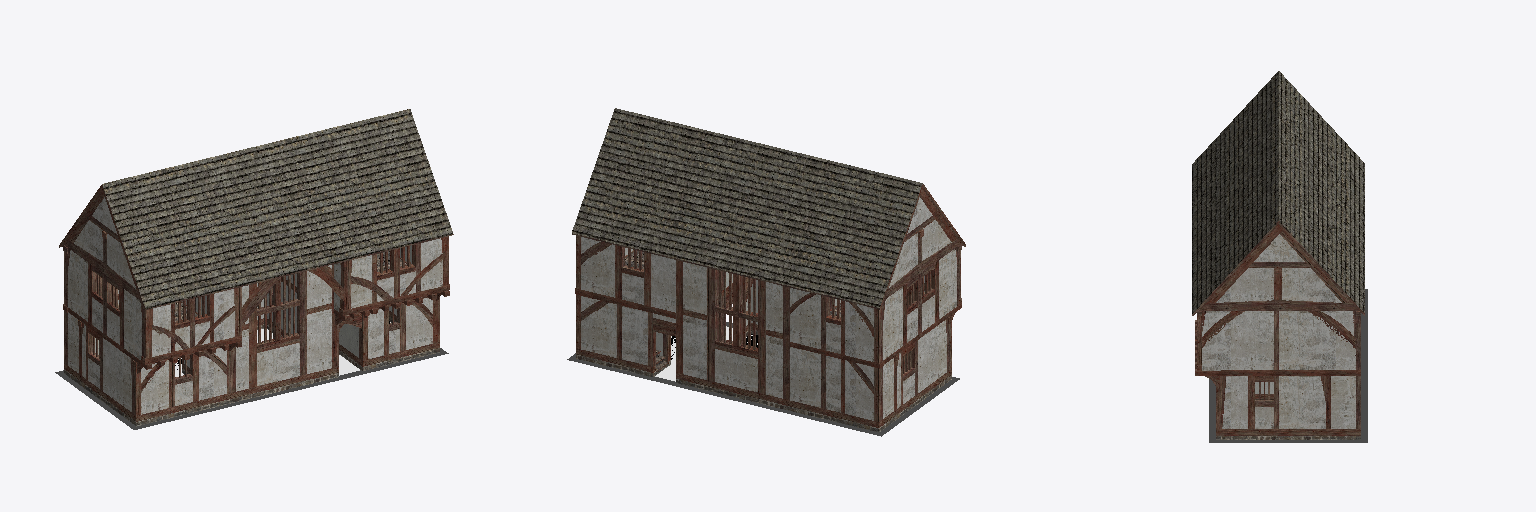
3 views of the same model, side by side, from view 1: azimuth 30°, elevation 25°; view 2: azimuth 150°, elevation 25°; view 3: azimuth 270°, elevation 25° (orthographic).
Parts seen in each view (by area): view 1: Mesh11 Group1 Model; view 2: Mesh11 Group1 Model; view 3: Mesh11 Group1 Model.
Part boxes in pixels (x1,y1,x2,y2): Mesh11 Group1 Model: (55,109,453,429); Mesh11 Group1 Model: (567,108,965,436); Mesh11 Group1 Model: (1192,71,1367,442).
Bounding box in the file's own units: 14.2 × 9.5 × 6.85.
Materials: 10 (7 with a texture image).